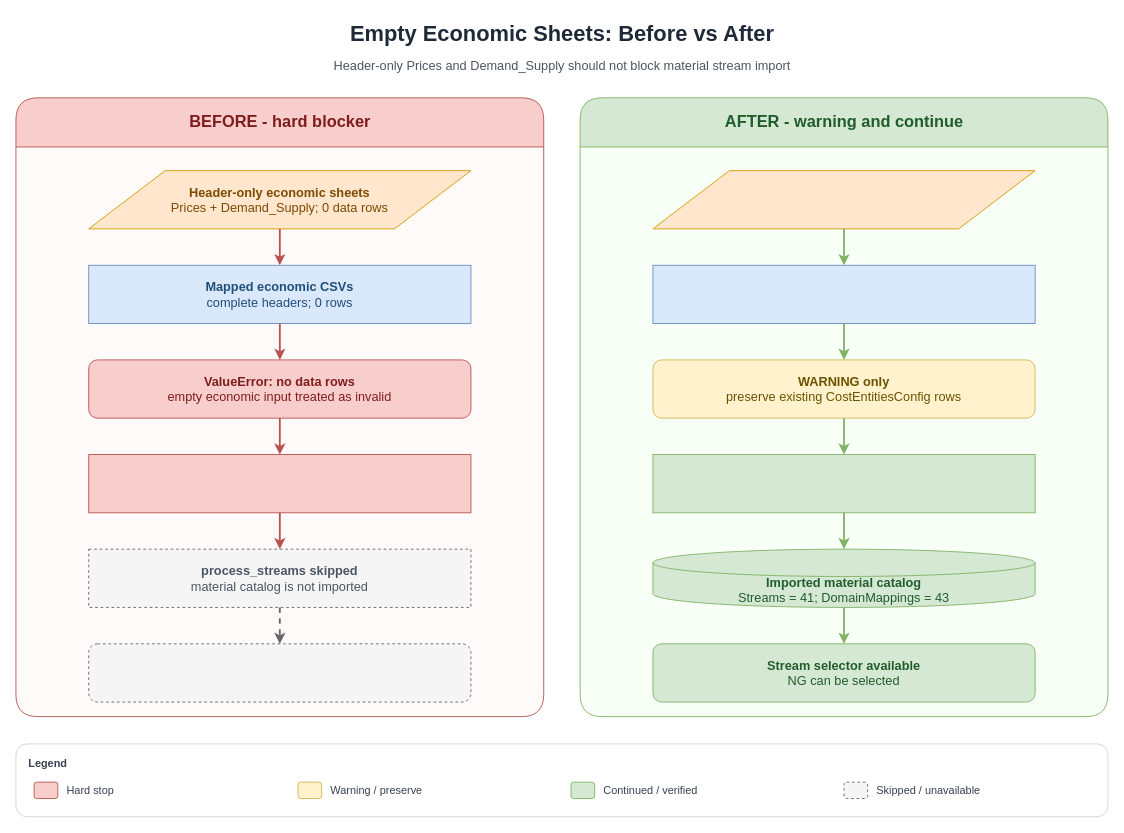
The diagram is 1124 pixels wide and 833 high, and some of its shapes have lost their labels. Each missing label, with the centre of its shape:
"Header-only economic sheets Prices + Demand_Supply; mapping preserved" belongs at [843,199].
"Normalize split sources valid empty DataFrame" belongs at [843,294].
"process_costs aborts main import exits before later phases" belongs at [279,483].
"process_streams continues later material phase still executes" belongs at [843,483].
"Stream selector empty no Stream DB option can be chosen" belongs at [279,672].
